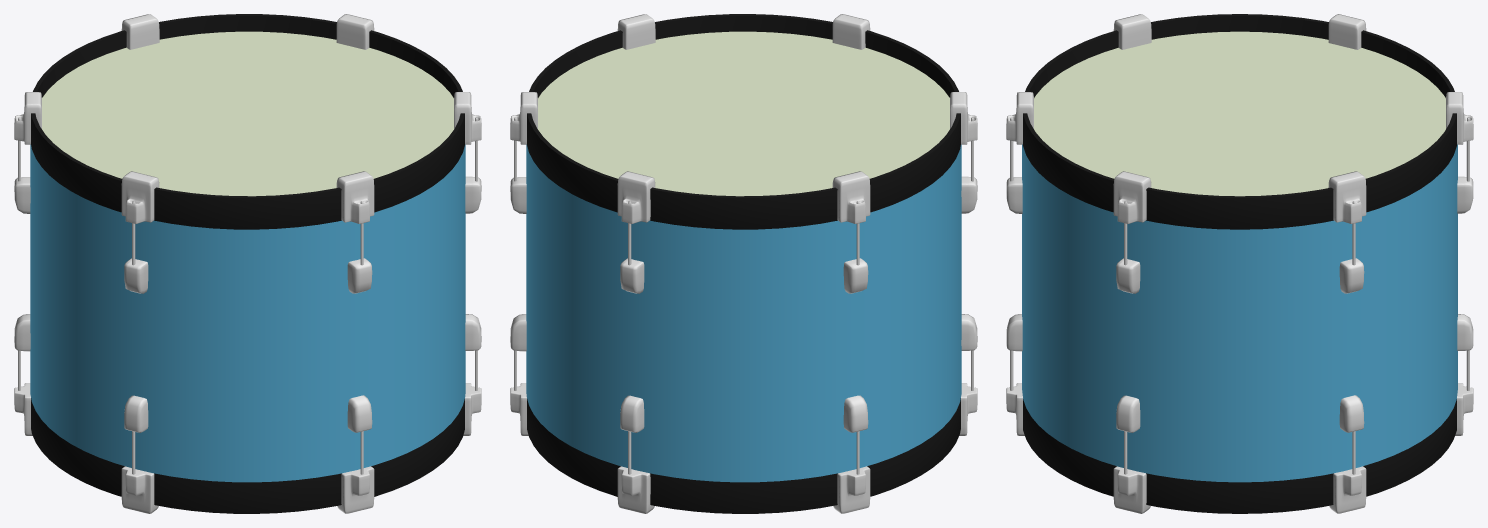
Rendered from racktomsmall.fbx.
3 renders of one model, left to right at view 1: azimuth 30°, elevation 25°; view 2: azimuth 150°, elevation 25°; view 3: azimuth 270°, elevation 25°, orthographic.
Parts seen in each view (by area): view 1: Rack Tom Small; view 2: Rack Tom Small; view 3: Rack Tom Small.
Part boxes in pixels (x1,y1,x2,y2): Rack Tom Small: (14, 14, 481, 513); Rack Tom Small: (510, 14, 977, 513); Rack Tom Small: (1006, 14, 1473, 513).
Bounding box in the file's own units: 0.25 × 0.21 × 0.2681.
